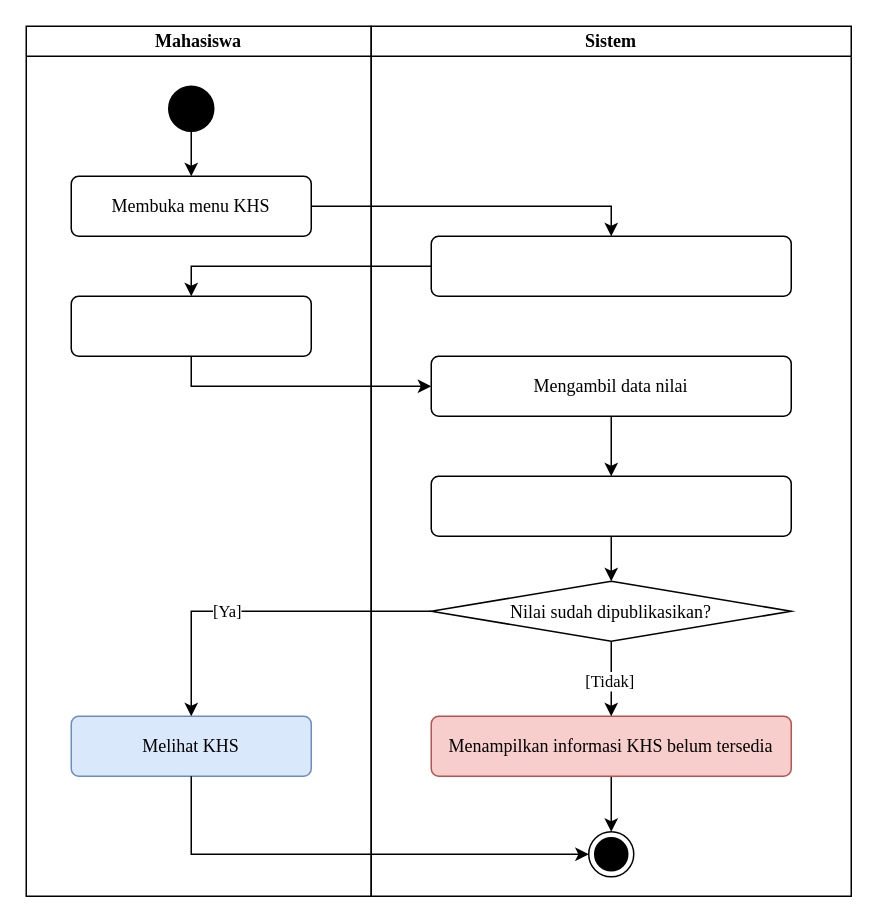
Some shapes in this 878 by 923 pixel diagram are drawn without their labels. Each missing label, with the centre of its shape:
"Memeriksa status publikasi nilai" belongs at (x=610, y=505).
"Memilih semester" belongs at (x=190, y=325).
"Menampilkan pilihan semester" belongs at (x=610, y=265).
